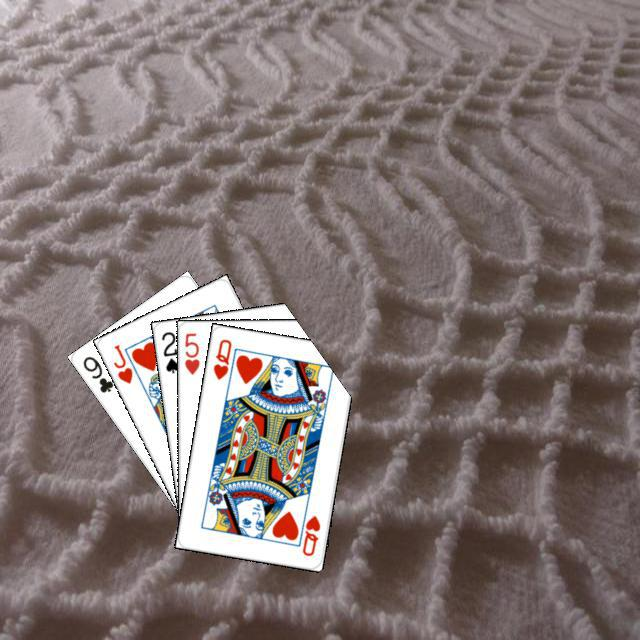2s: (157, 327, 181, 375)
5h: (180, 328, 201, 376)
9c: (78, 351, 115, 394)
Jh: (109, 340, 134, 385)
Qh: (293, 504, 322, 558), (208, 334, 233, 382)
